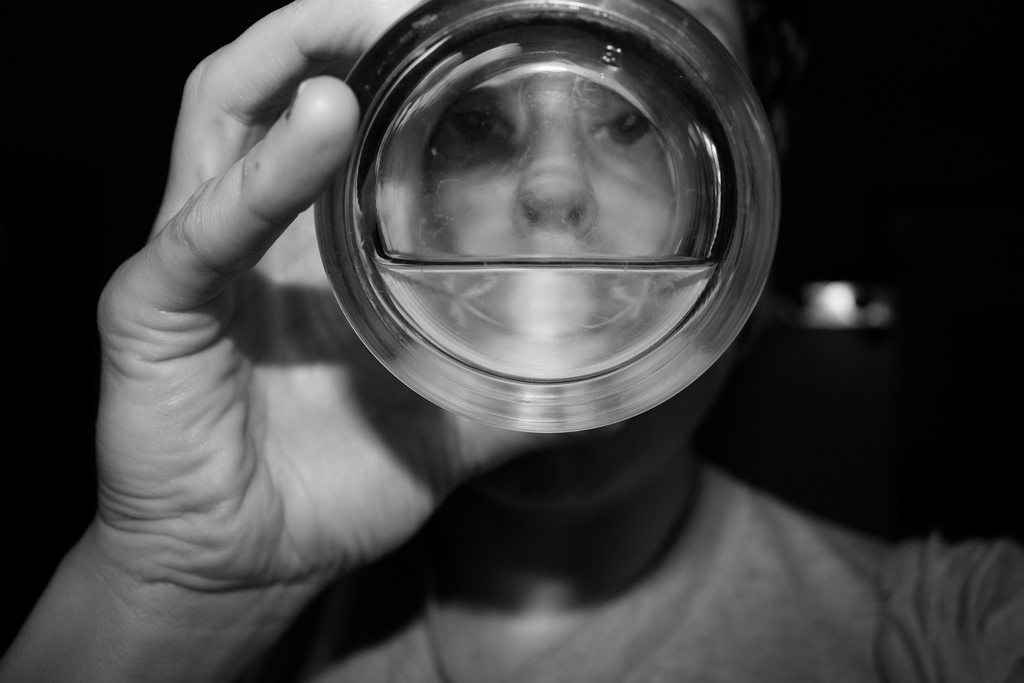glass of water: (329, 20, 809, 433)
